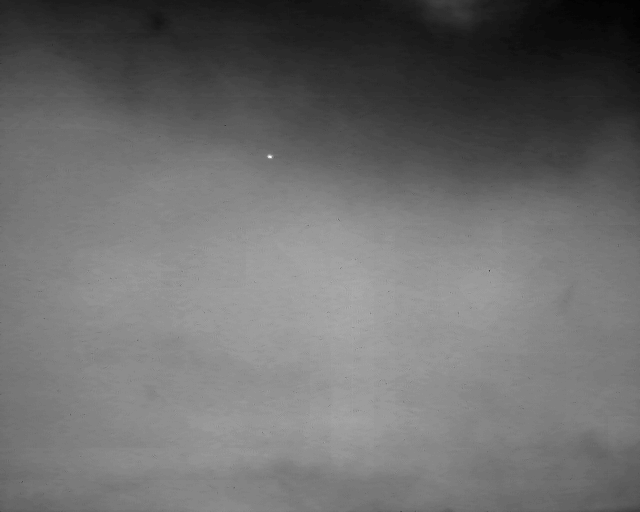Target: (267, 155, 274, 160)
